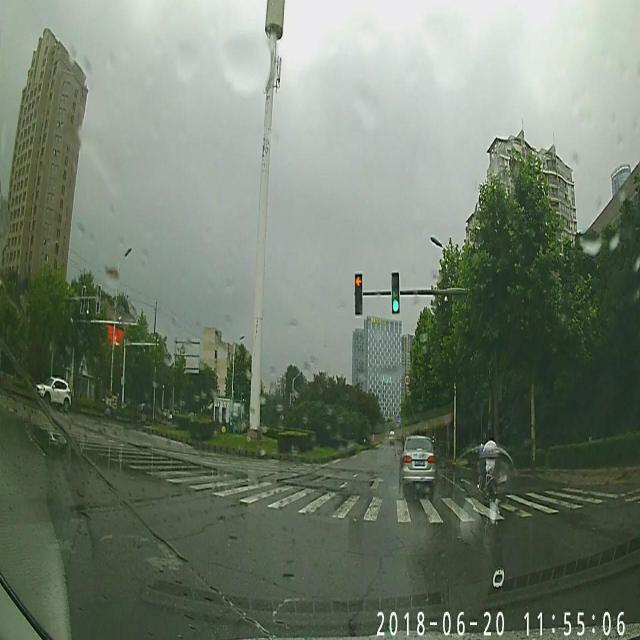car: (398, 430, 436, 490), (34, 373, 72, 408), (386, 426, 396, 446)
